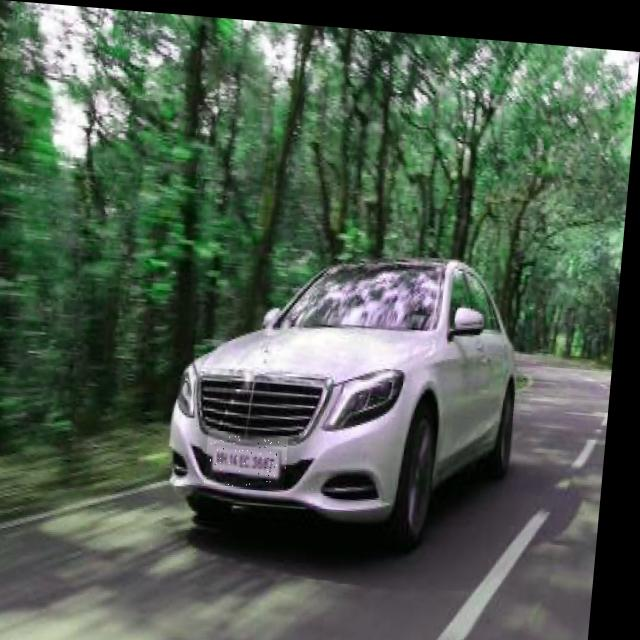license_plate: (213, 426, 296, 485)
